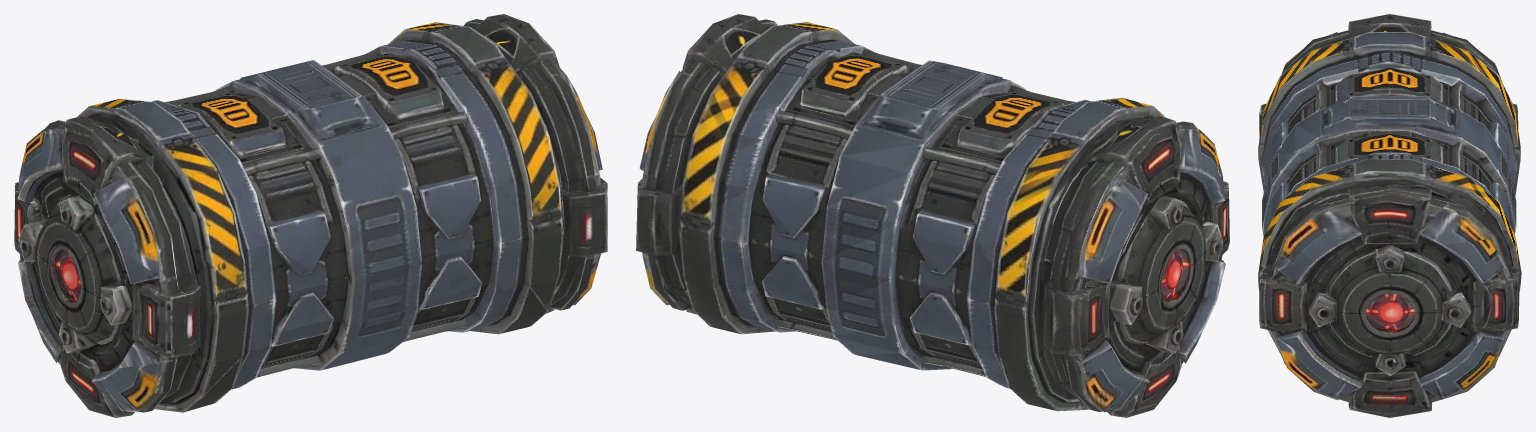
File: bomb.glb
3 views of the same model, side by side, from view 1: azimuth 30°, elevation 25°; view 2: azimuth 150°, elevation 25°; view 3: azimuth 270°, elevation 25° (orthographic). The views are drawn at different scales.
Visible parts, largest first — view 1: mesh_node; view 2: mesh_node; view 3: mesh_node.
Boxes of the visible parts, left/top/right/bottom form: mesh_node: left=14, top=14, right=607, bottom=417; mesh_node: left=636, top=14, right=1229, bottom=417; mesh_node: left=1258, top=14, right=1521, bottom=417.
Bounding box in the file's own units: 1 × 0.5468 × 0.5664.
Materials: 1 (1 with a texture image).
